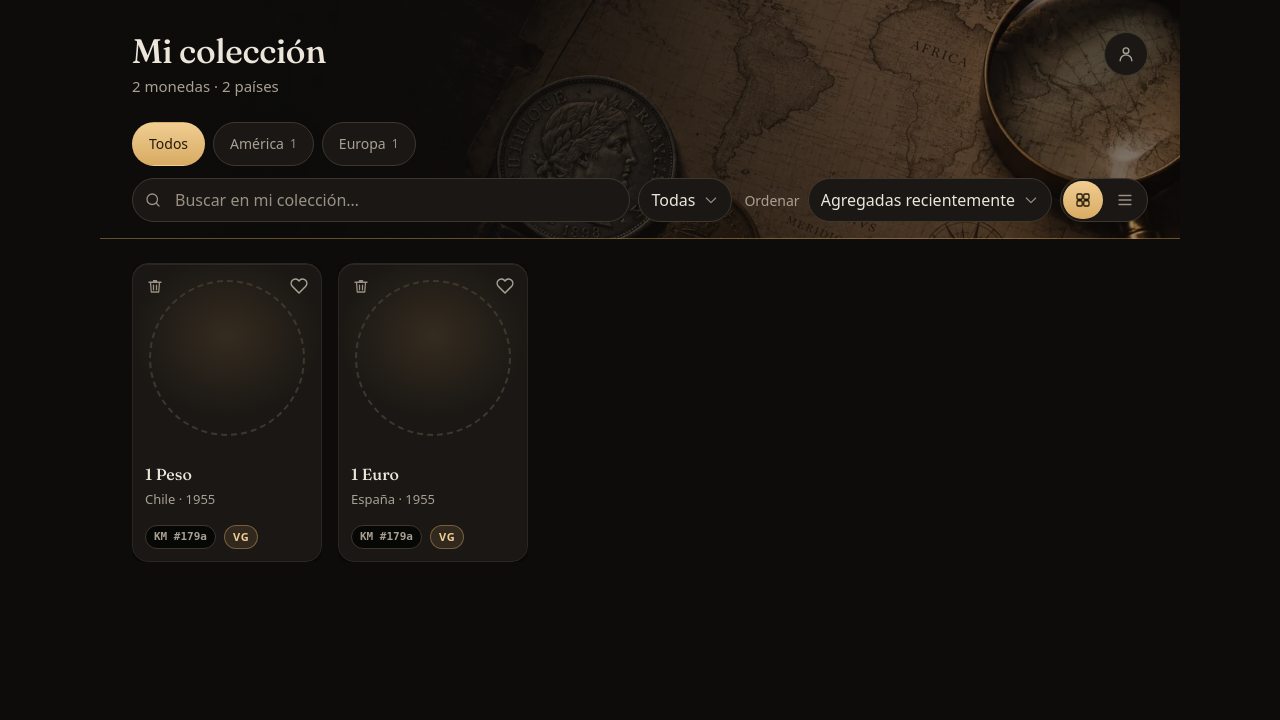
Test: al cambiar de continente quita un país que no pertenece a él
Click the dropdown named "Filtrar por país".
click(685, 200)  # box [638,178,732,222]
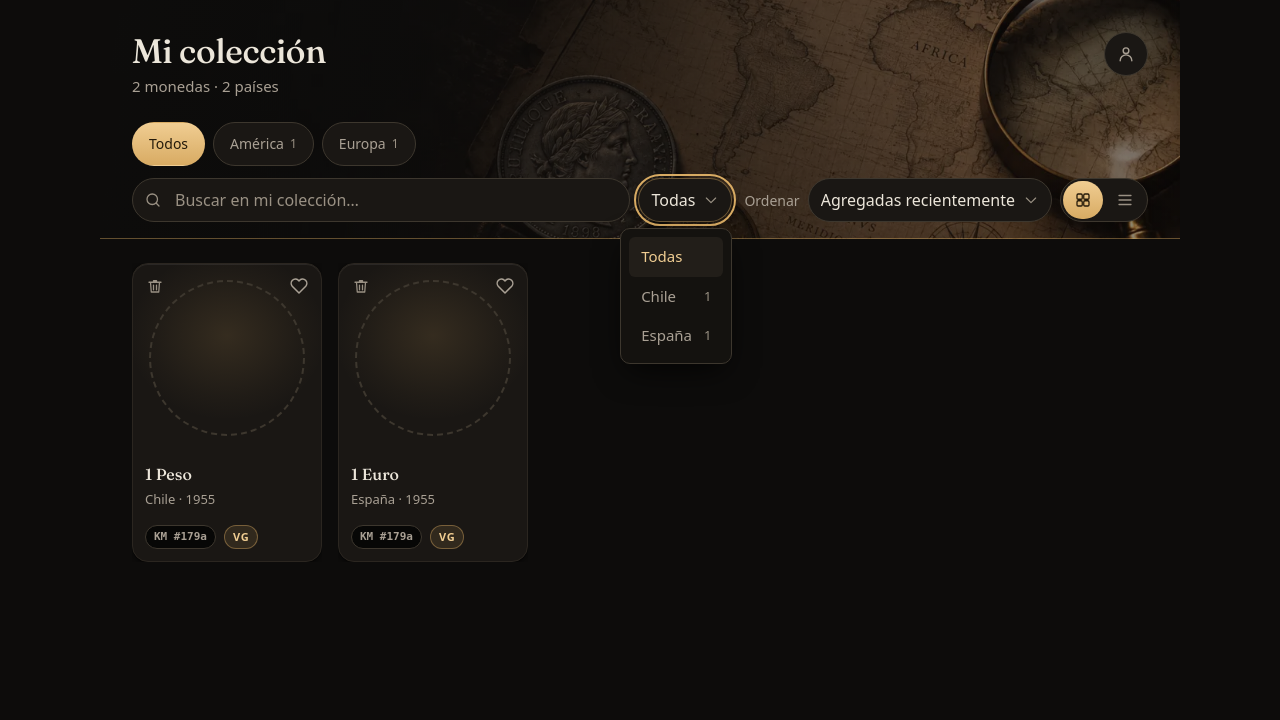
Click the option "Chile 1".
click(676, 296)  # box [641,286,711,306]
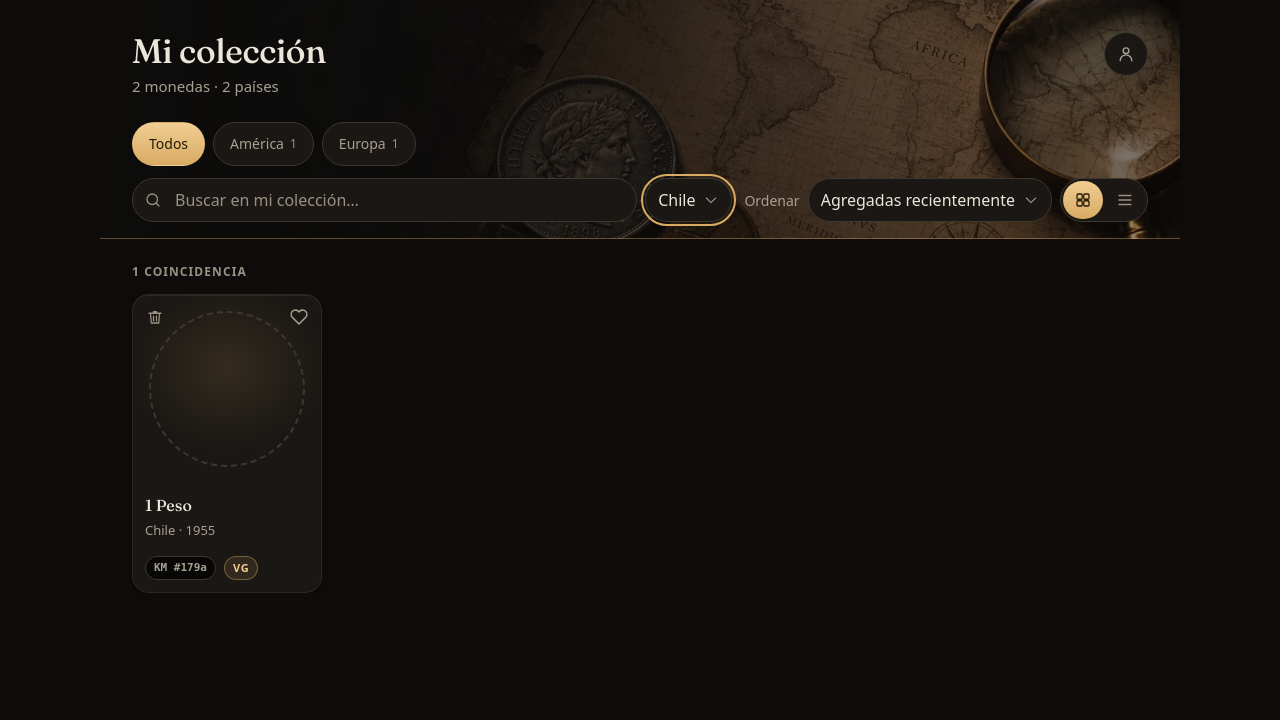
Click the button "Europa 1".
click(369, 144)  # box [322,122,416,166]
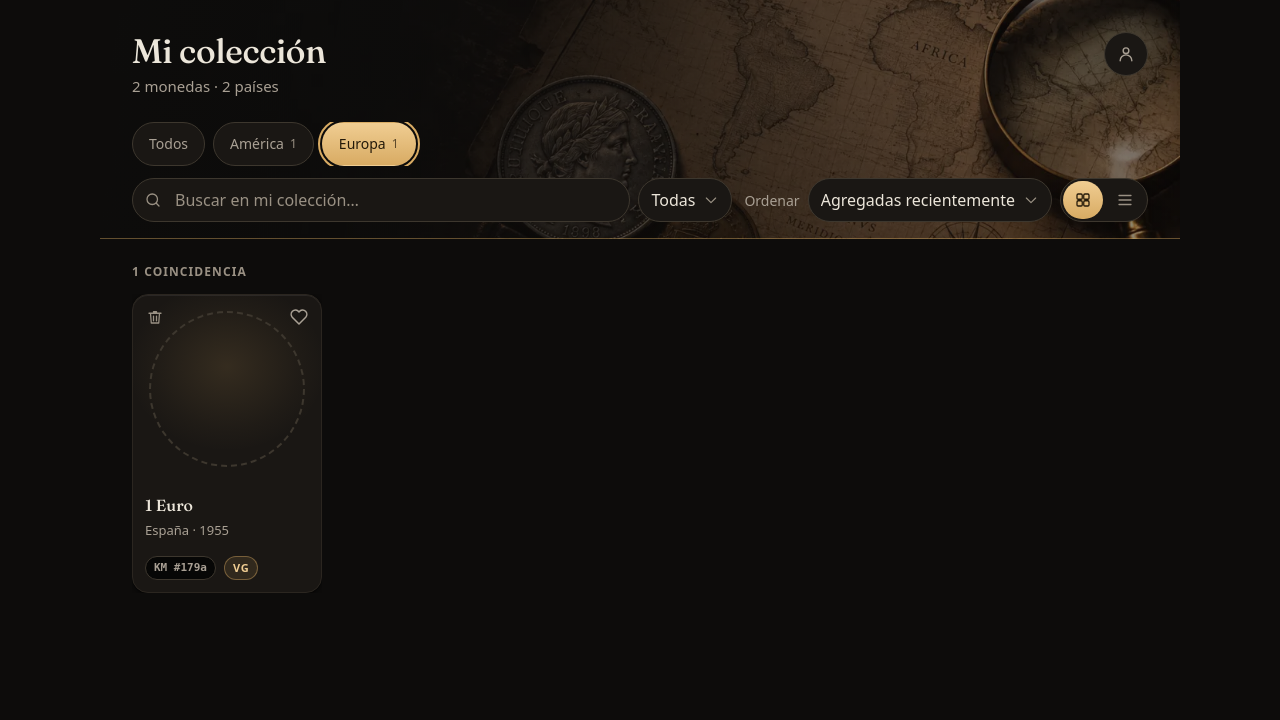
Expected: the text "Todas" is shown, [652,189,695,212]
Expected: the button "1 Euro" is shown, [145,495,193,516]
